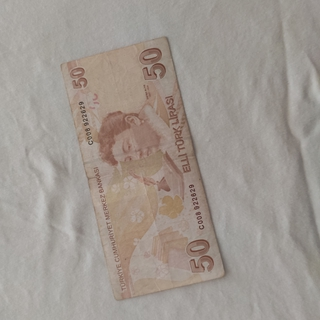50TLBack: (60, 37, 225, 301)
